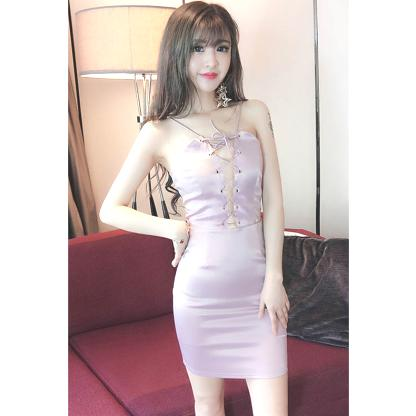jacket: (158, 100, 296, 389)
